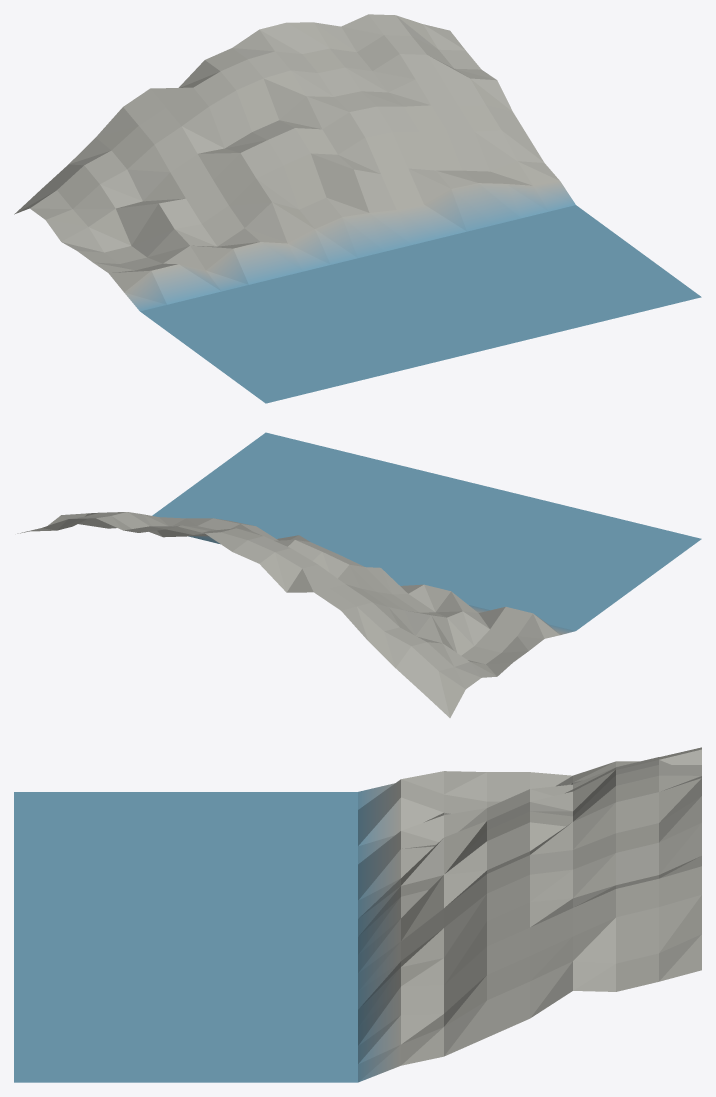
3 renders of one model, top to bottom at view 1: azimuth 30°, elevation 25°; view 2: azimuth 150°, elevation 25°; view 3: azimuth 270°, elevation 25°, orthographic. The views are drawn at different scales.
Size of the model in its own units: 32 by 9.13 by 32.
